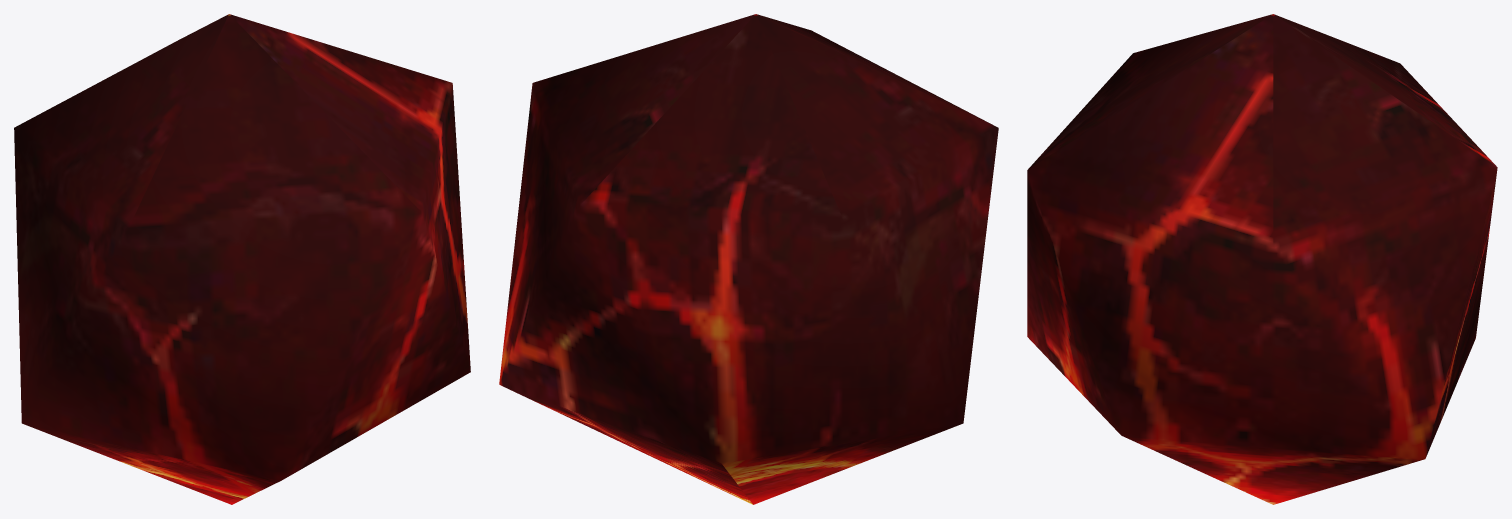
The model's file is huoqiu_hexin1.FBX.
The picture shows the model from 3 angles, left to right: view 1: azimuth 30°, elevation 25°; view 2: azimuth 150°, elevation 25°; view 3: azimuth 270°, elevation 25°; orthographic projection.
Visible parts, largest first — view 1: huoqiu_hexin1; view 2: huoqiu_hexin1; view 3: huoqiu_hexin1.
Part boxes in pixels (<box>): huoqiu_hexin1: <box>14,14,470,504</box>; huoqiu_hexin1: <box>499,14,998,504</box>; huoqiu_hexin1: <box>1027,14,1497,504</box>.
Bounding box in the file's own units: 161 × 176 × 153.
1 material, 1 textured.
